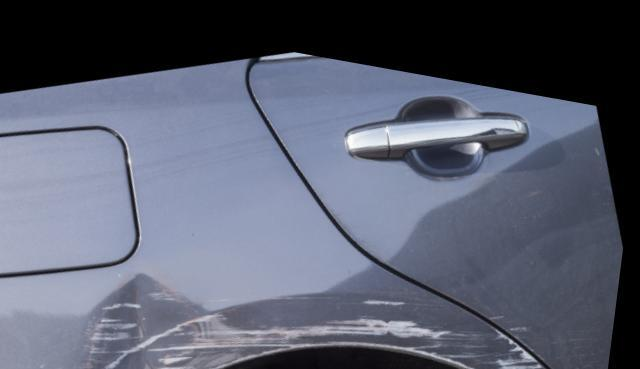dent: (95, 267, 207, 369)
scratch: (168, 269, 563, 369)
